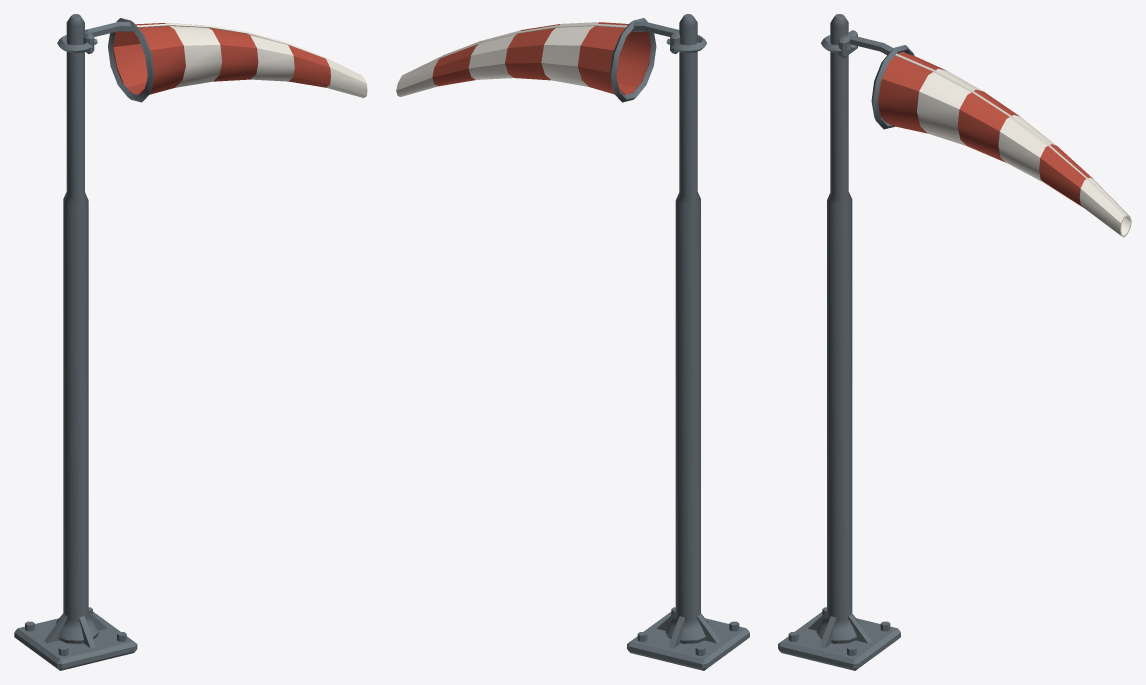
File: Windsock.glb
3 renders of one model, left to right at view 1: azimuth 30°, elevation 25°; view 2: azimuth 150°, elevation 25°; view 3: azimuth 330°, elevation 25°, orthographic.
Visible parts, largest first — view 1: Windsock_Metal, Windsock_Accent, Windsock_White; view 2: Windsock_Metal, Windsock_Accent, Windsock_White; view 3: Windsock_Metal, Windsock_Accent, Windsock_White.
Boxes of the visible parts, x1=… form: Windsock_Metal: x1=14, y1=14, x2=154, y2=670; Windsock_Accent: x1=113, y1=23, x2=330, y2=94; Windsock_White: x1=137, y1=23, x2=367, y2=97; Windsock_Metal: x1=610, y1=14, x2=749, y2=670; Windsock_Accent: x1=432, y1=22, x2=651, y2=95; Windsock_White: x1=396, y1=22, x2=627, y2=96; Windsock_Metal: x1=778, y1=14, x2=914, y2=670; Windsock_Accent: x1=878, y1=52, x2=1092, y2=207; Windsock_White: x1=895, y1=53, x2=1131, y2=237.
Bounding box in the file's own units: 6.51 × 12 × 1.6.
